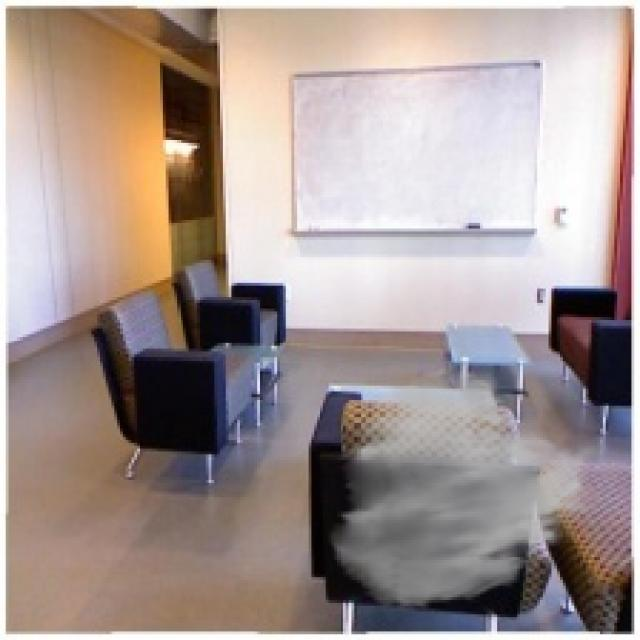smoke: (326, 366, 603, 611)
